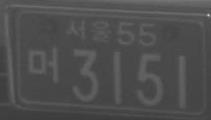1: (104, 49, 130, 105), (170, 54, 195, 110)
3: (70, 46, 101, 103)
5: (134, 50, 165, 107), (115, 19, 137, 47), (137, 21, 159, 48)
머: (26, 45, 60, 85)
서울_O: (64, 16, 113, 45)
